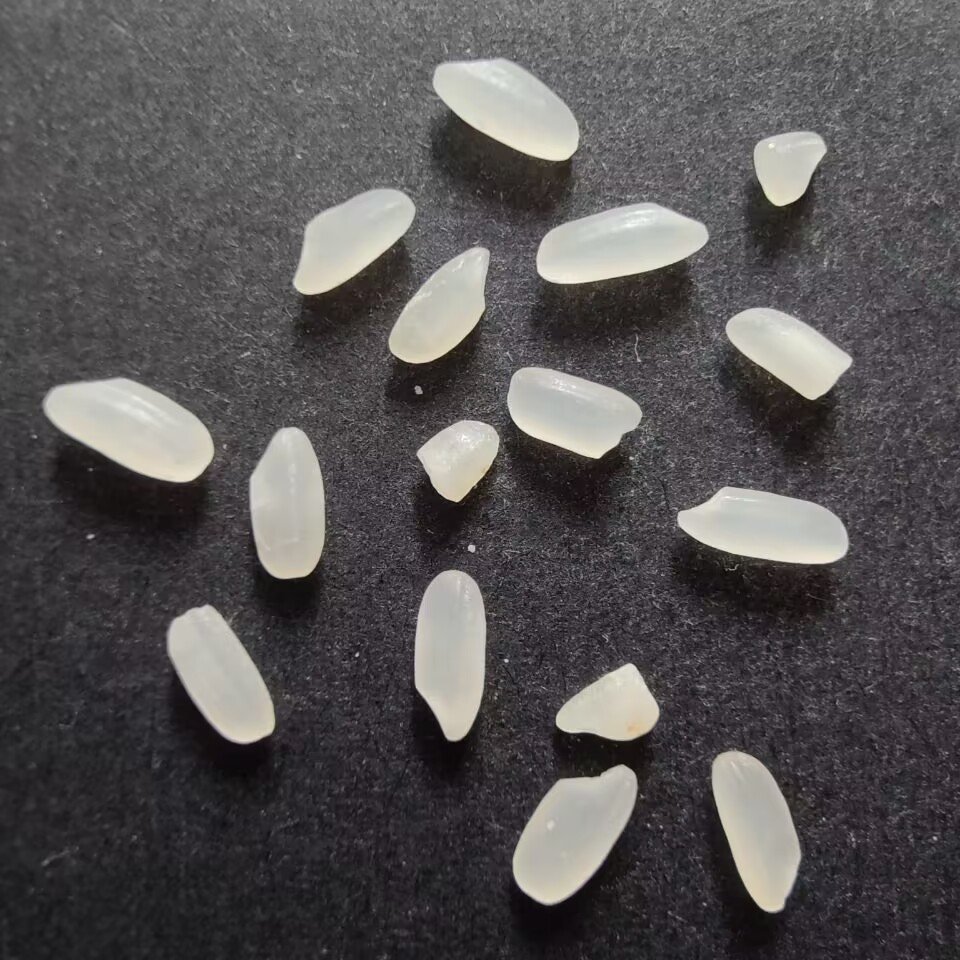broken: (505, 362, 649, 464), (722, 303, 858, 406), (549, 658, 669, 742), (410, 415, 501, 505), (747, 124, 830, 210)
rice: (36, 374, 218, 490), (509, 761, 641, 909), (427, 53, 583, 172), (705, 743, 807, 920), (163, 599, 280, 748), (532, 200, 715, 288), (669, 478, 852, 565), (406, 567, 492, 748), (286, 183, 421, 297), (384, 242, 495, 369), (247, 422, 330, 583)
